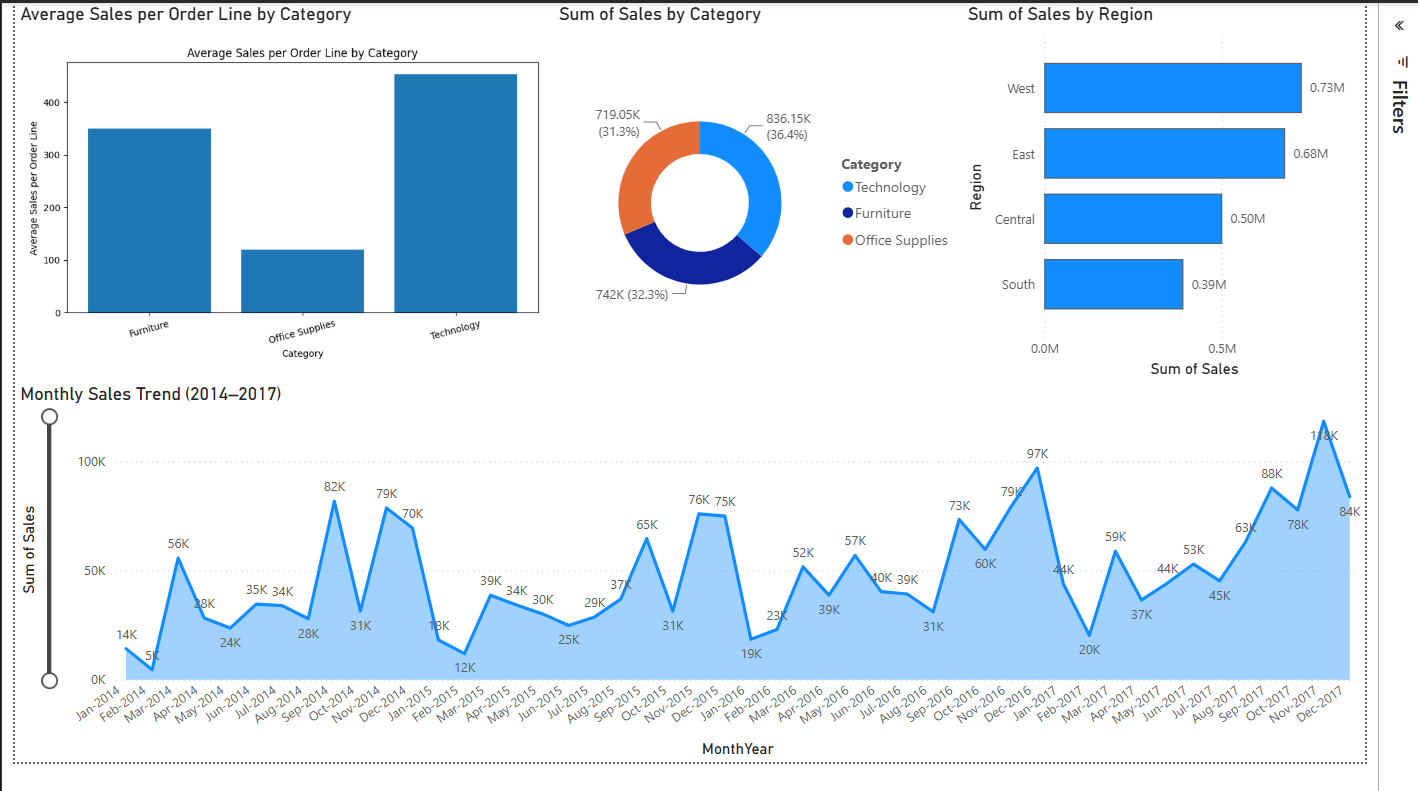

What the dashboard file says about the page in this screenshot:
{"tool":"powerbi","page":{"name":"Superstore Sales Summary","canvas":[1280,720],"ordinal":0},"visuals":[{"type":"pythonVisual","title":"Average Sales per Order Line by Category","fields":{"Values":["Superstore_Cleaned.Category","Superstore_Cleaned.Sales","Superstore_Cleaned.Row ID"]},"box":[0,0,510.8,360.6],"z":0},{"type":"lineChart","title":"Monthly Sales Trend (2014–2017)","fields":{"Category":["Superstore_Cleaned.MonthYear"],"Y":["Sum(Superstore_Cleaned.Sales)"]},"box":[0,360.3,1280,360.3],"z":1000},{"type":"clusteredBarChart","fields":{"Category":["Superstore_Cleaned.Region"],"Y":["Sum(Superstore_Cleaned.Sales)"]},"box":[898.4,0,381.6,360.3],"z":2000},{"type":"donutChart","fields":{"Category":["Superstore_Cleaned.Category"],"Y":["Sum(Superstore_Cleaned.Sales)"]},"box":[510.8,0,387.6,360.3],"z":3000}]}

Visuals, with their boxes on the page's 1280x720 design canvas (x1, y1, x2, y2). These are canvas units, not pixel positions in the 1418x791 screenshot, which may show the page scaled, cropped or inside an application window:
"Average Sales per Order Line by Category" pythonVisual: (left=0, top=0, right=511, bottom=361)
"Monthly Sales Trend (2014–2017)" lineChart: (left=0, top=360, right=1280, bottom=721)
clusteredBarChart - Superstore_Cleaned.Region x Sum(Superstore_Cleaned.Sales): (left=898, top=0, right=1280, bottom=360)
donutChart - Superstore_Cleaned.Category x Sum(Superstore_Cleaned.Sales): (left=511, top=0, right=898, bottom=360)
